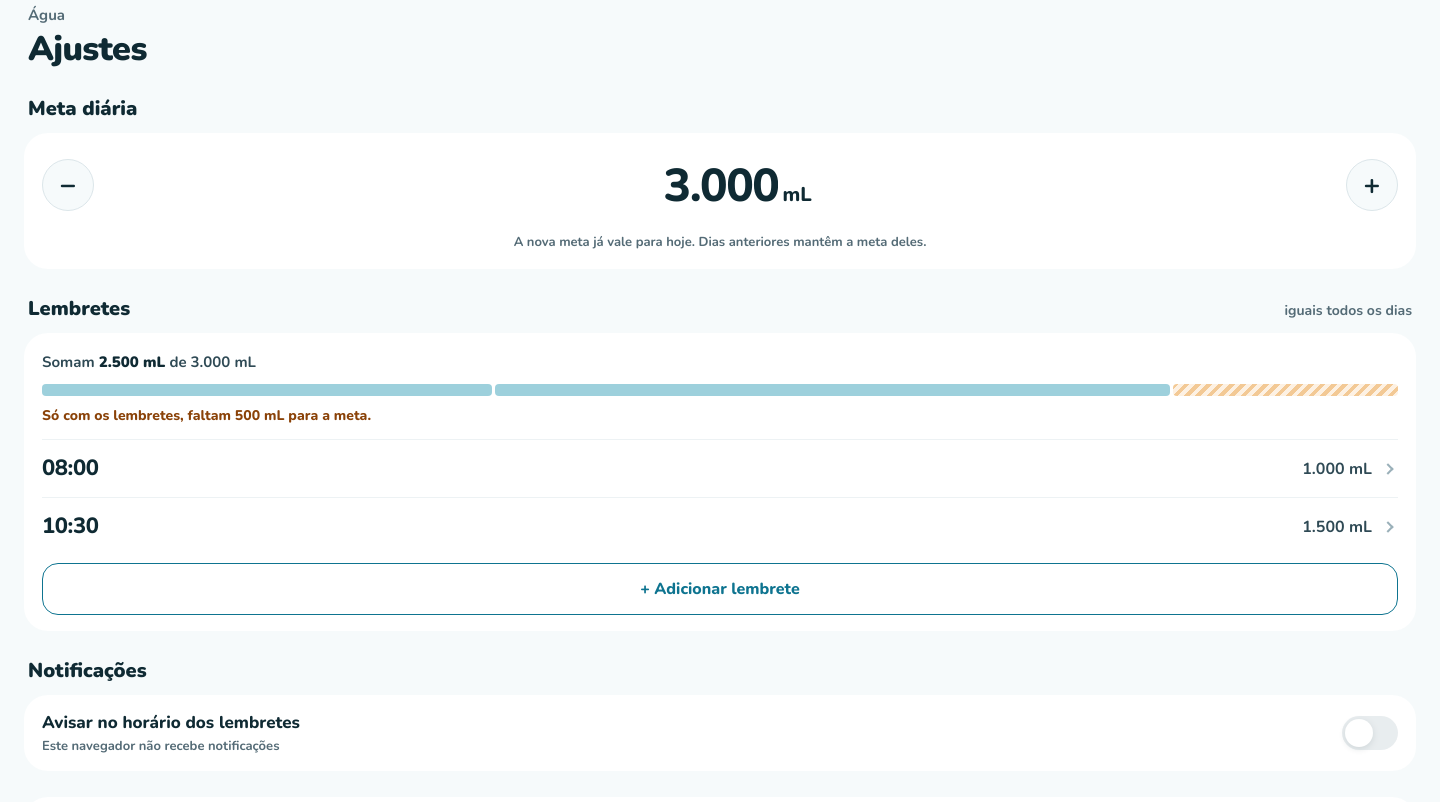
Test: WaterSettingsPage (Ajustes) › tocar num lembrete abre a edição; excluir pede confirmação
The image size is (1440, 802).
Click the button with aria-label "Editar 08:00 · 1.000 mL".
click(70, 468)  # box [42, 439, 1398, 497]
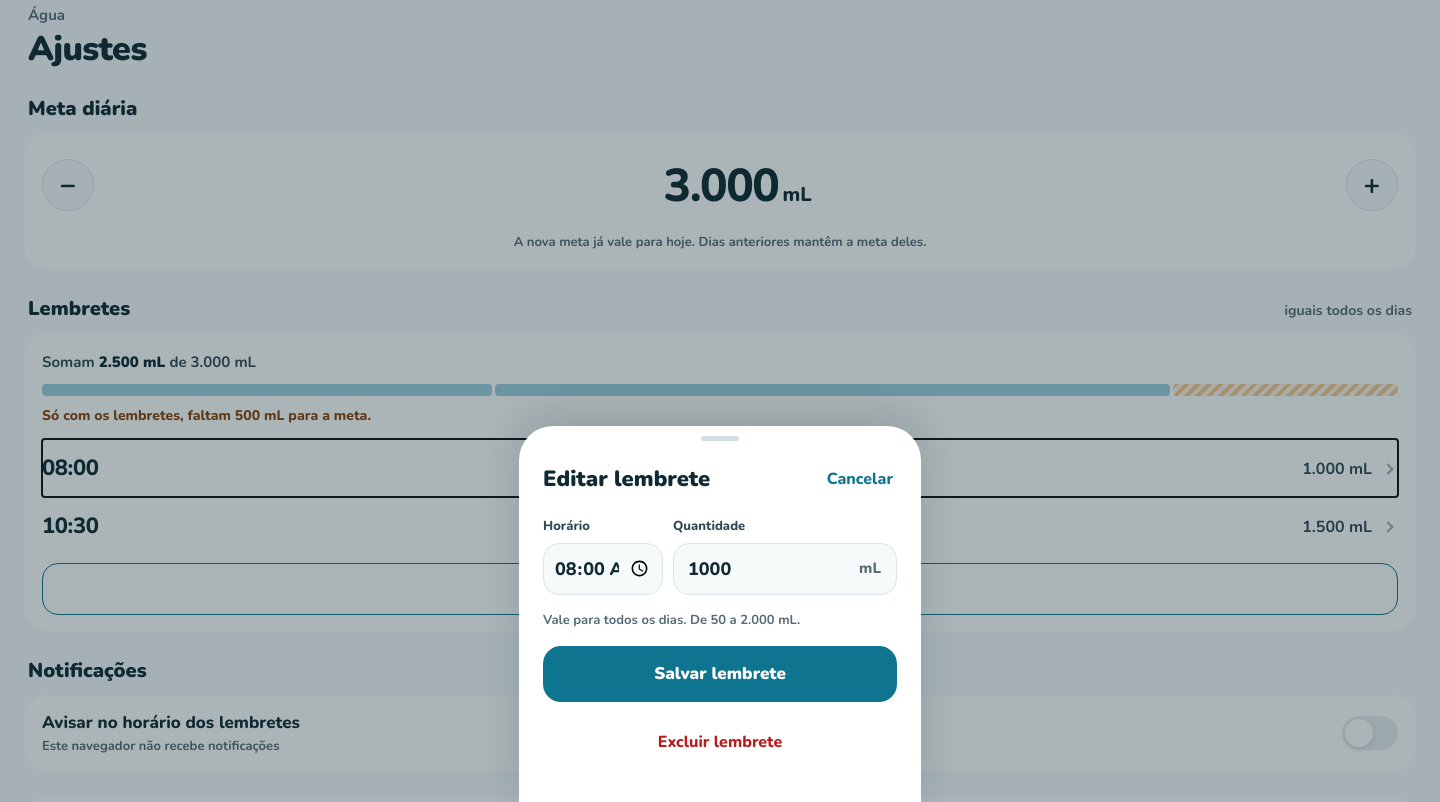
Result: the field named "Quantidade em mL" holds "1000"
Replace the text in the field named "Quantidade em mL" with "700" at (785, 568), box [673, 542, 897, 594]
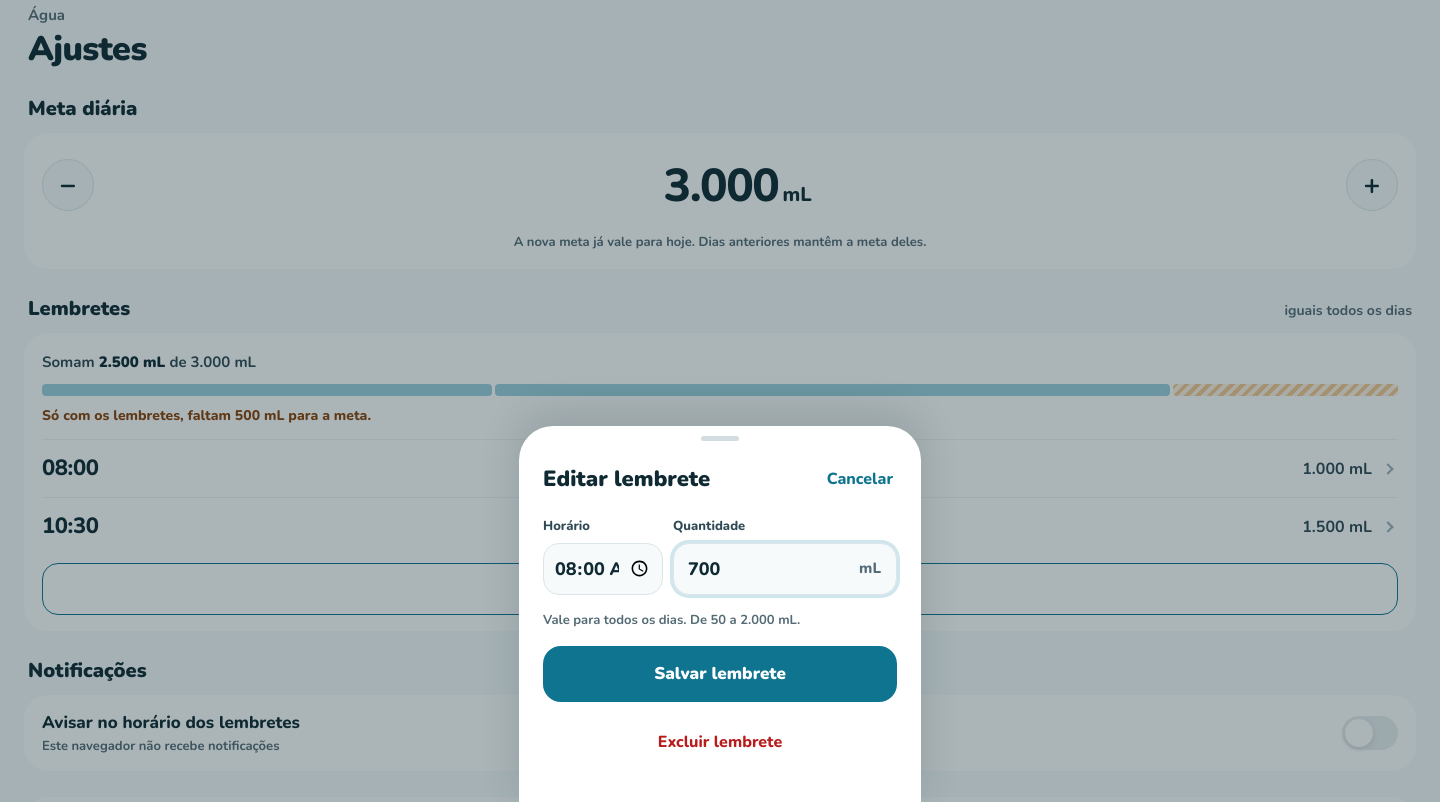
Click the button "Salvar lembrete".
click(720, 674)  # box [543, 646, 897, 702]
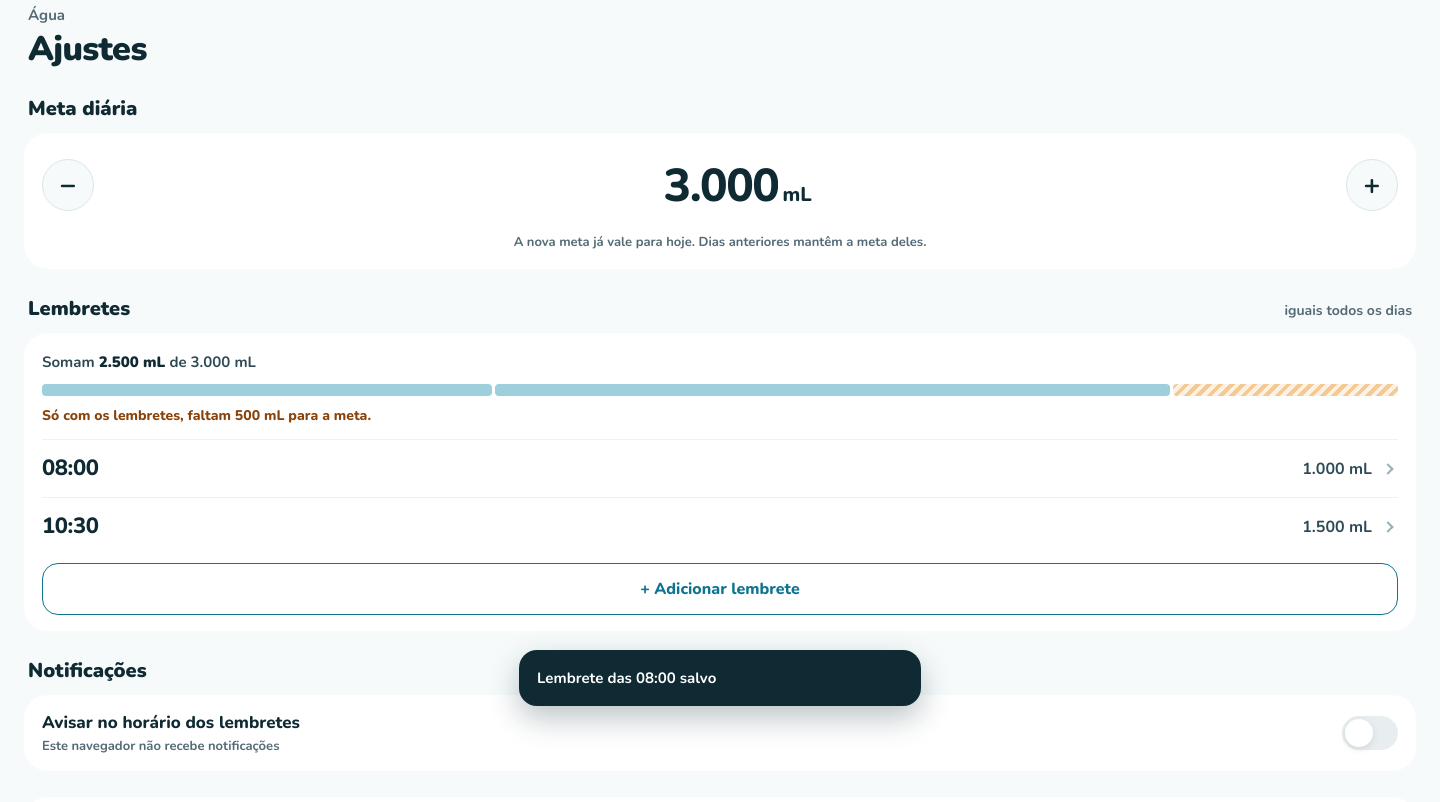
Click the button with aria-label "Editar 10:30 · 1.500 mL".
click(70, 526)  # box [42, 497, 1398, 555]
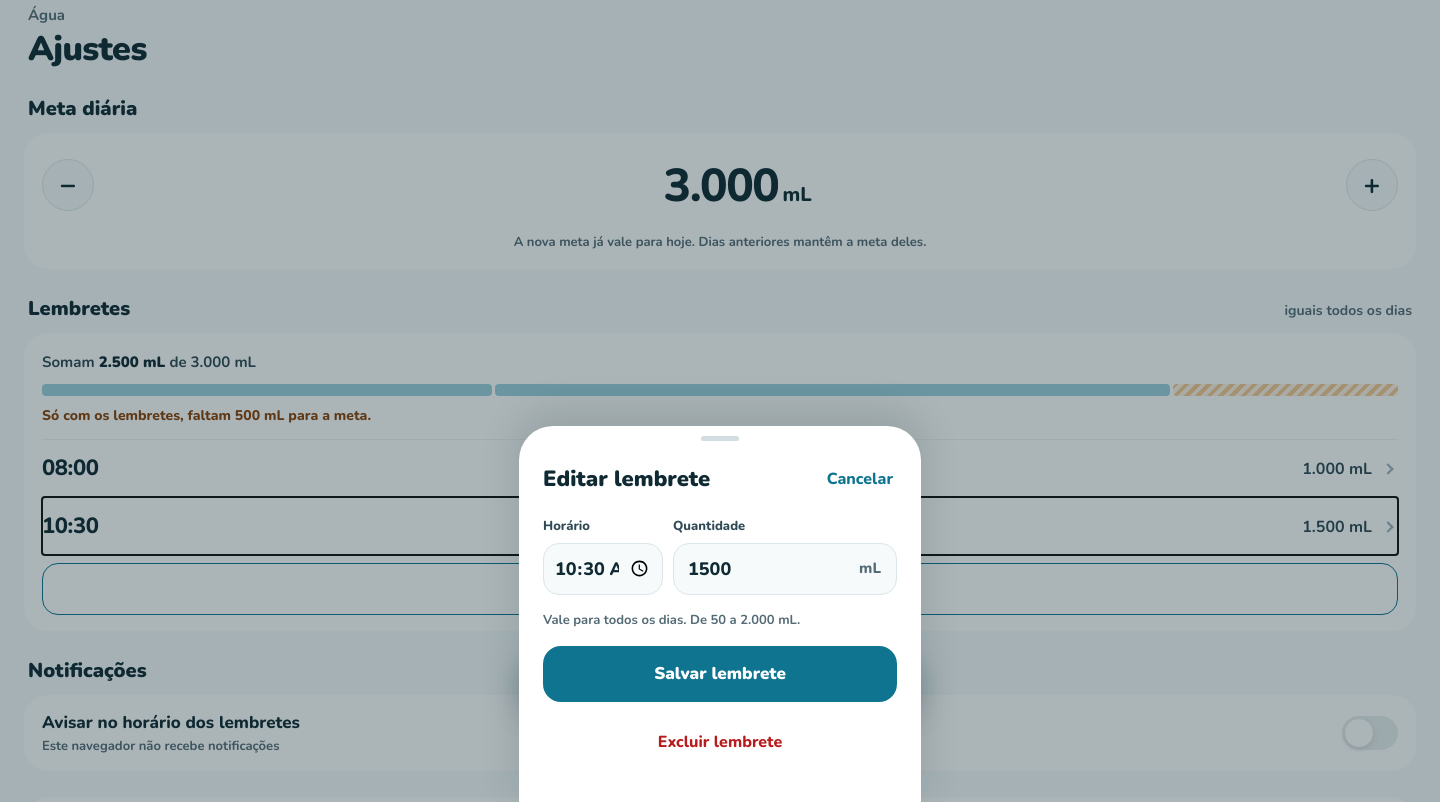
Click the button "Excluir lembrete".
click(720, 742)  # box [543, 718, 897, 766]
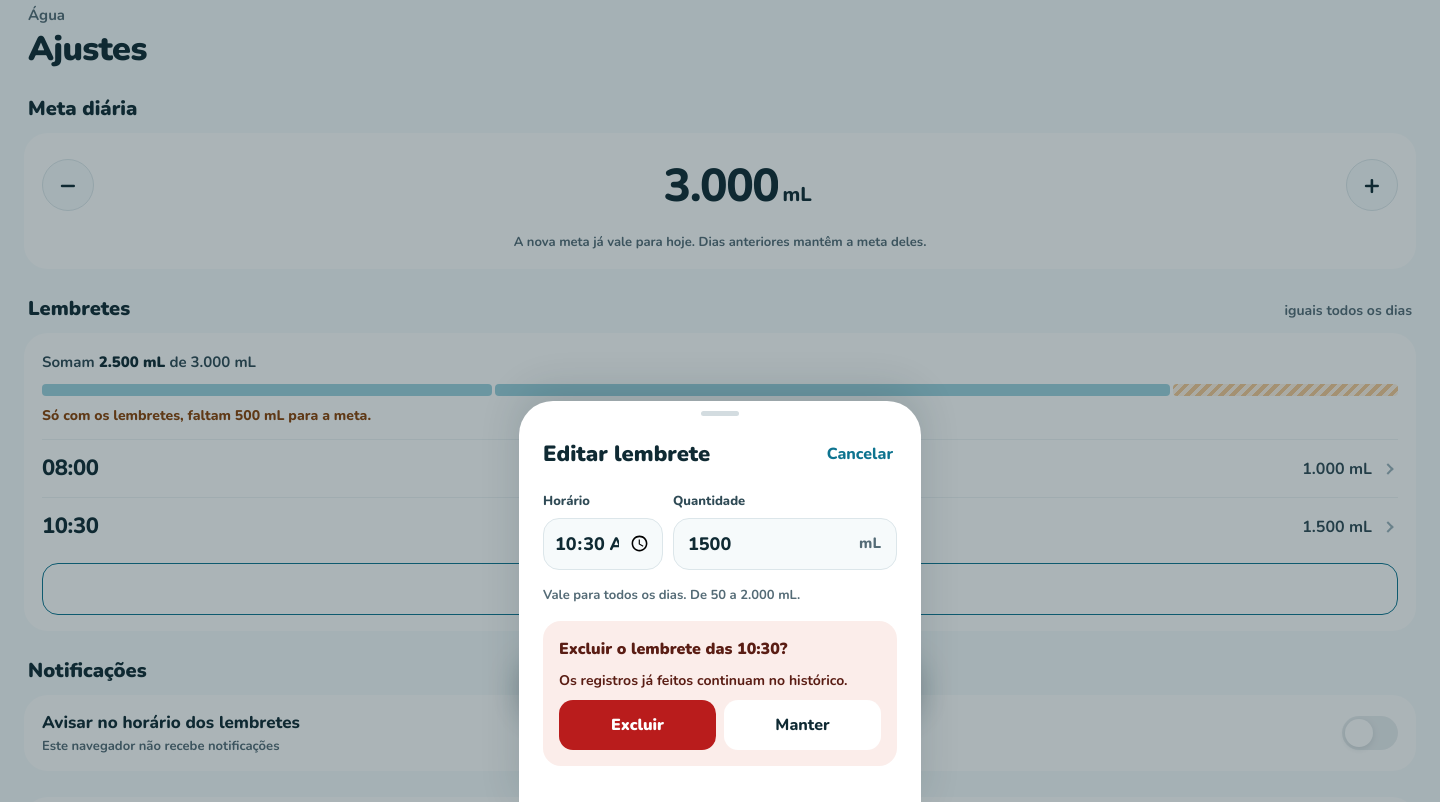
Result: the text "Excluir o lembrete das 10:30?" is shown at [559, 638, 788, 660]
Click the button "Excluir".
click(638, 725)  # box [559, 700, 716, 750]
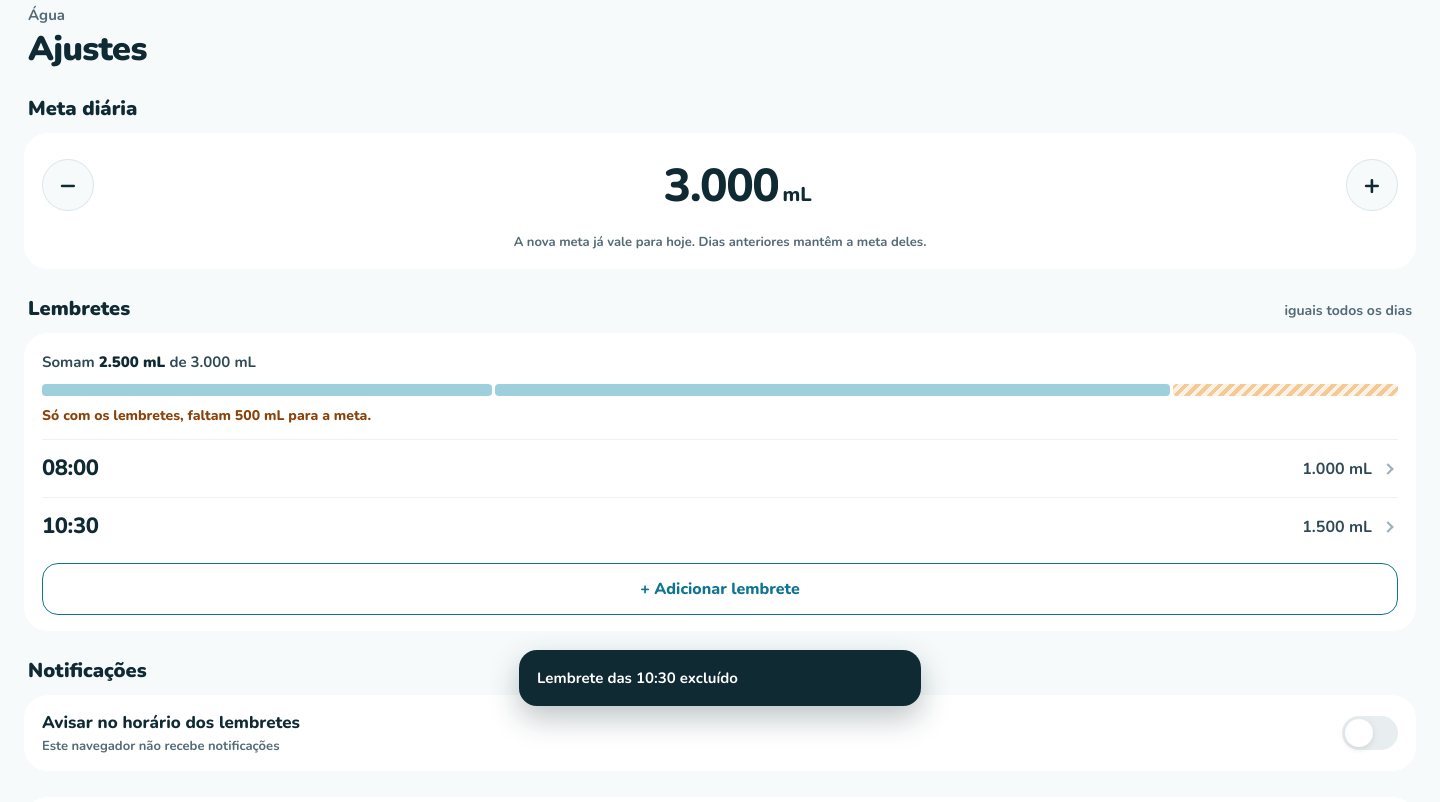
Result: the text "Lembrete das 10:30 excluído" is shown at [537, 667, 738, 689]
